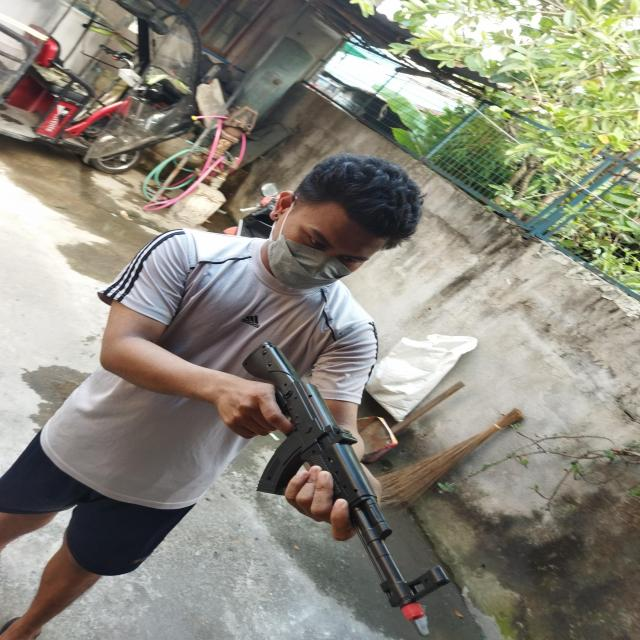rifle: (240, 341, 448, 621)
